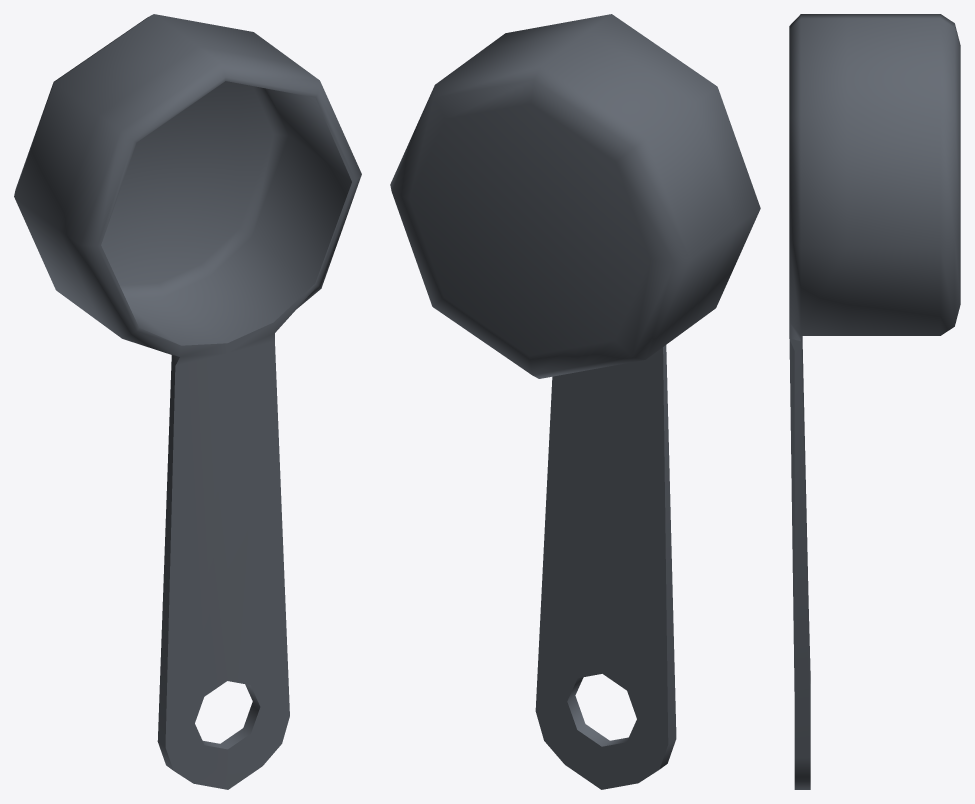
File: mspoon_measuring_spoons_large_003.glb
3 views of the same model, side by side, from view 1: azimuth 30°, elevation 25°; view 2: azimuth 150°, elevation 25°; view 3: azimuth 270°, elevation 25° (orthographic). The views are drawn at different scales.
Parts seen in each view (by area): view 1: mspoon measuring spoons large.003; view 2: mspoon measuring spoons large.003; view 3: mspoon measuring spoons large.003.
Part boxes in pixels (left/top/right/bottom): mspoon measuring spoons large.003: left=14, top=14, right=361, bottom=789; mspoon measuring spoons large.003: left=390, top=14, right=760, bottom=789; mspoon measuring spoons large.003: left=789, top=14, right=960, bottom=789.
Size of the model in its own units: 0.8584 by 2.12 by 0.4283.
1 material, 1 textured.
